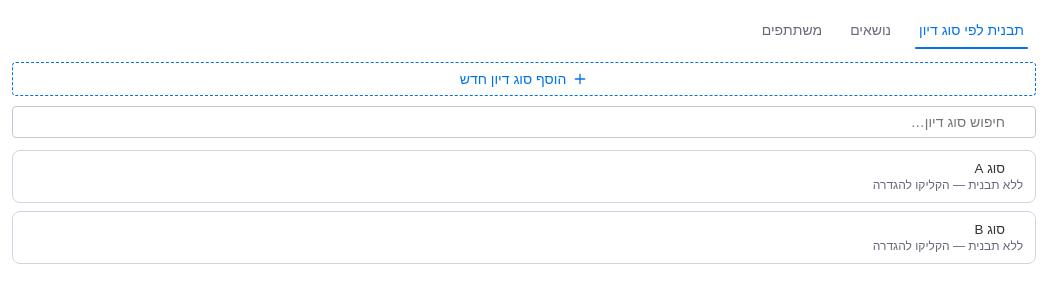
Scenario: TemplateManagerModal › shows an X clear control only when a value is set; clicking it resets to null without opening the menu
Step 1. Click the tab "נושאים" → (871, 30), box left=838, top=12, right=903, bottom=48
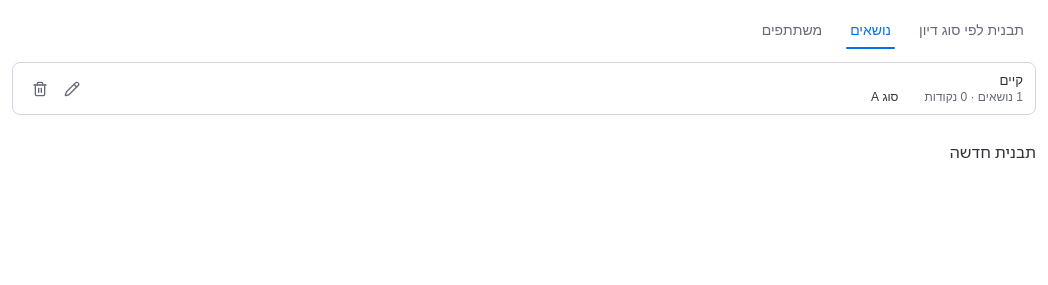
Step 2. Click the button named "עריכה" → (72, 88), box left=57, top=74, right=87, bottom=104
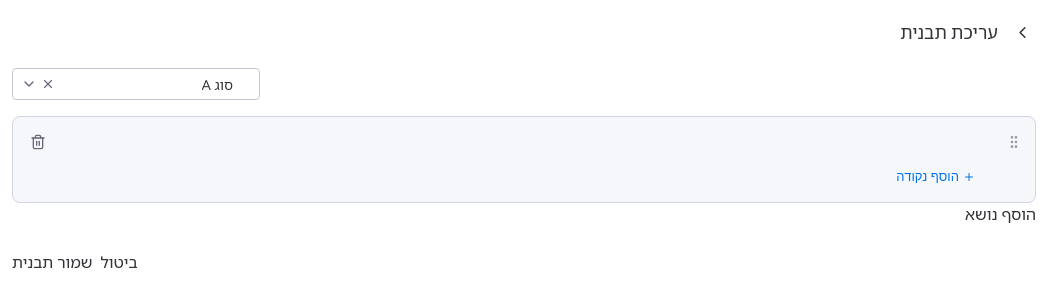
Expected: the button named "נקה סוג" is shown
Step 3. Click the button named "נקה סוג" → (48, 84), box left=41, top=77, right=55, bottom=91
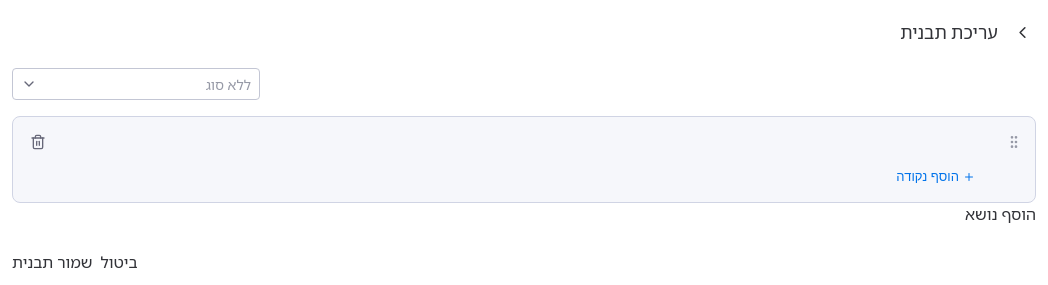
Expected: the text "ללא סוג" is shown, left=206, top=74, right=251, bottom=94
